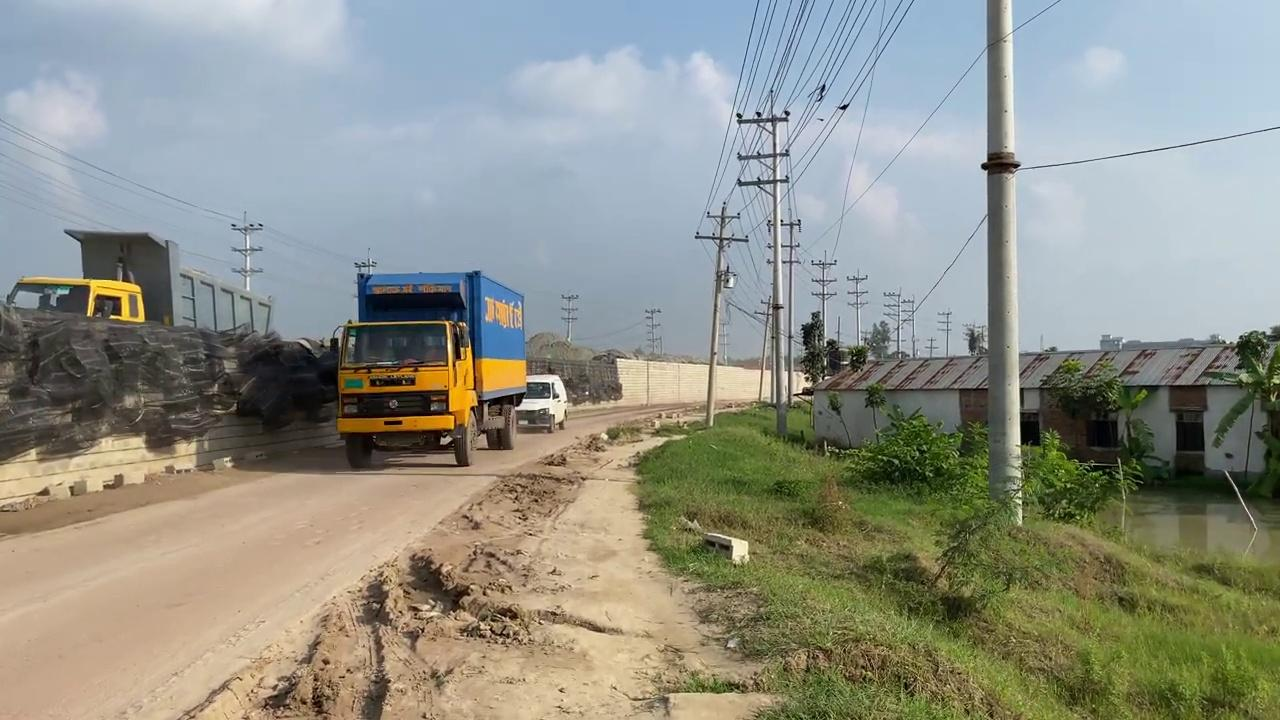Car: (514, 373, 568, 433)
Garbage: (0, 299, 340, 457)
Muddy road: (1, 394, 671, 717)
Obstacle: (702, 531, 749, 564)
Pole: (984, 0, 1023, 527)
Sidewalk: (1089, 480, 1279, 569)
Traffic-sign: (1209, 327, 1279, 499), (797, 309, 826, 384)
Tree: (333, 258, 527, 468), (5, 275, 145, 323)
